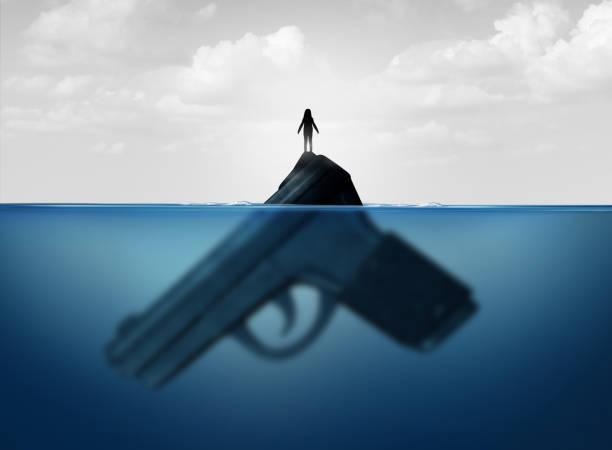weapon: (101, 145, 479, 392)
